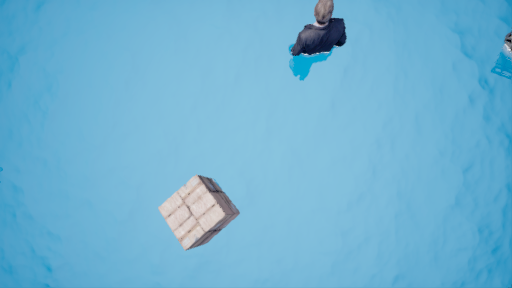person: (292, 3, 348, 82)
